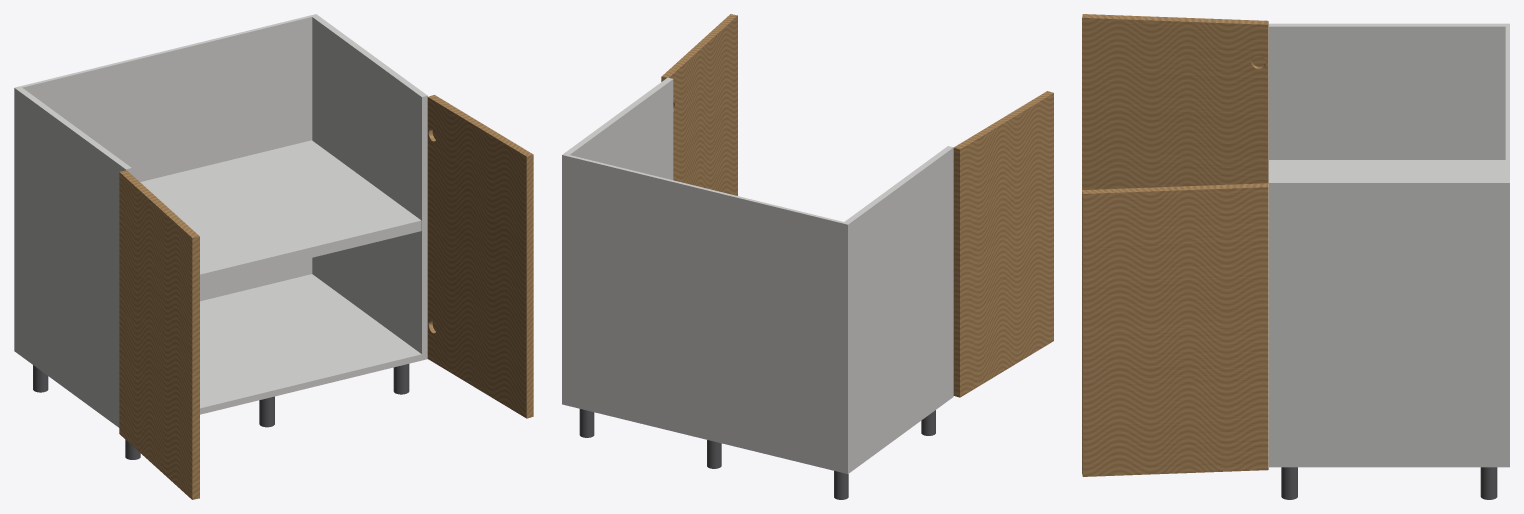
File: w900_none_pair_open.glb
3 renders of one model, left to right at view 1: azimuth 30°, elevation 25°; view 2: azimuth 150°, elevation 25°; view 3: azimuth 270°, elevation 25°, orthographic. The views are drawn at different scales.
Visible parts, largest first — view 1: white, oak, leg; view 2: white, oak, leg; view 3: white, oak, leg.
Boxes of the visible parts, box(x1,y1,x2,y2) form: white: box(14, 14, 427, 427); oak: box(119, 95, 533, 499); leg: box(33, 364, 409, 459); white: box(562, 77, 953, 473); oak: box(661, 14, 1053, 397); leg: box(579, 409, 935, 499); white: box(1269, 23, 1509, 467); oak: box(1082, 14, 1268, 476); leg: box(1281, 467, 1497, 499).
Bounding box in the file's own units: 1.02 × 0.85 × 1.02.
3 materials, 1 textured.
